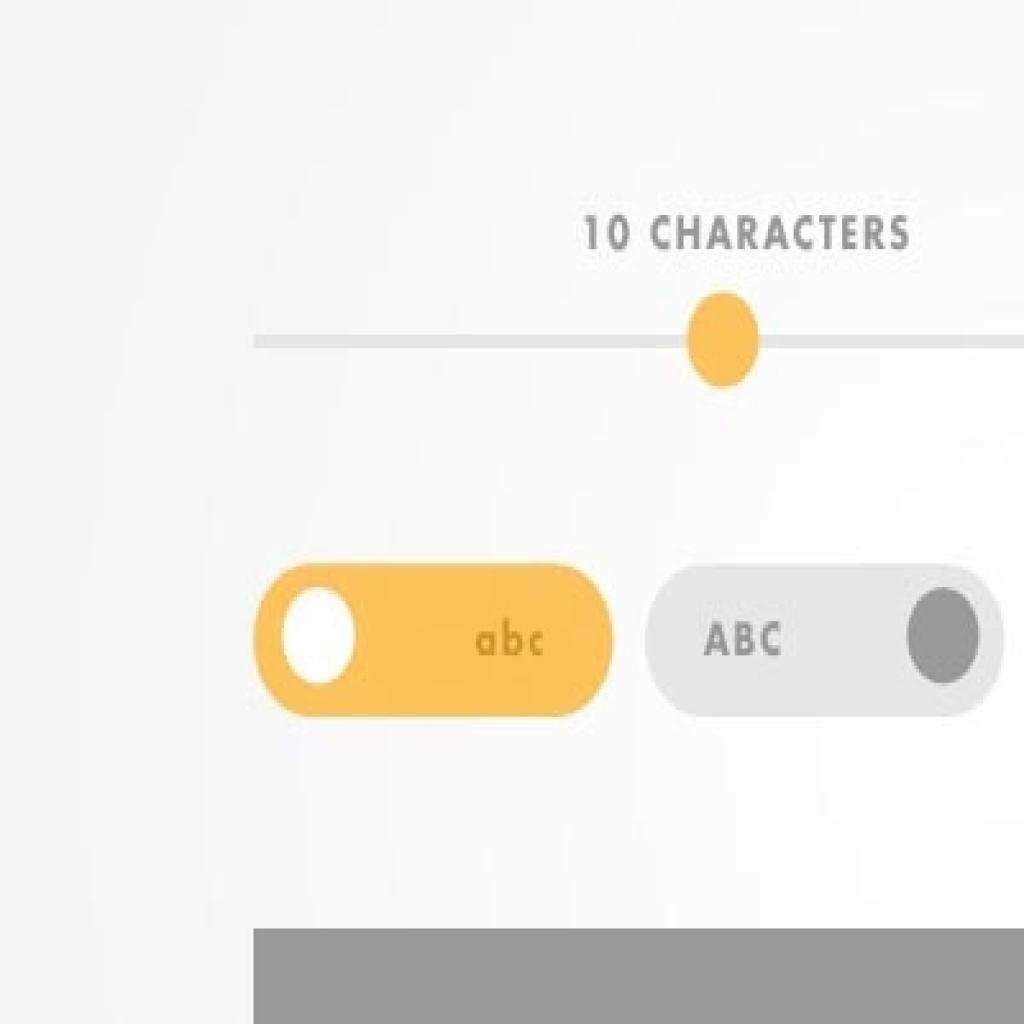label: (568, 212, 917, 257)
radio: (898, 586, 984, 690), (281, 587, 360, 688)
slider: (254, 291, 1024, 388)
